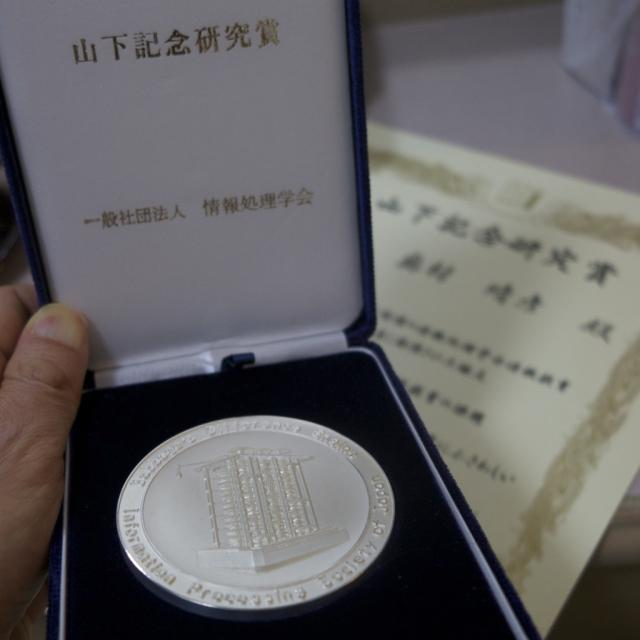Coin: (115, 414, 396, 610)
